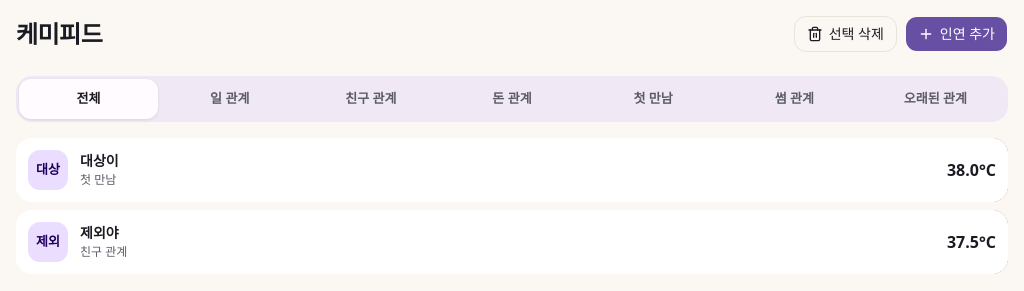
Scenario: FeedPage › 첫합 필터 클릭 시 해당 모드 항목만 표시된다
Check: the text "대상이" is shown, box [80, 151, 119, 170]
Click the radio button labelled "첫 만남". click: (653, 99)
box: [584, 79, 723, 118]
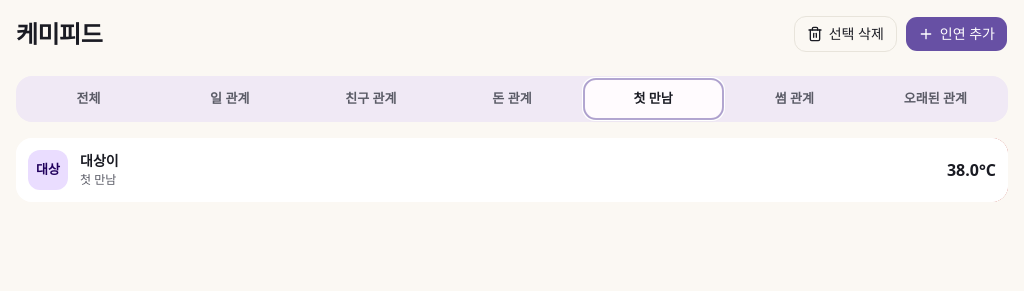
Check: the text "대상이" is shown, box [80, 151, 119, 170]
Check: the button "제외야" is gone
